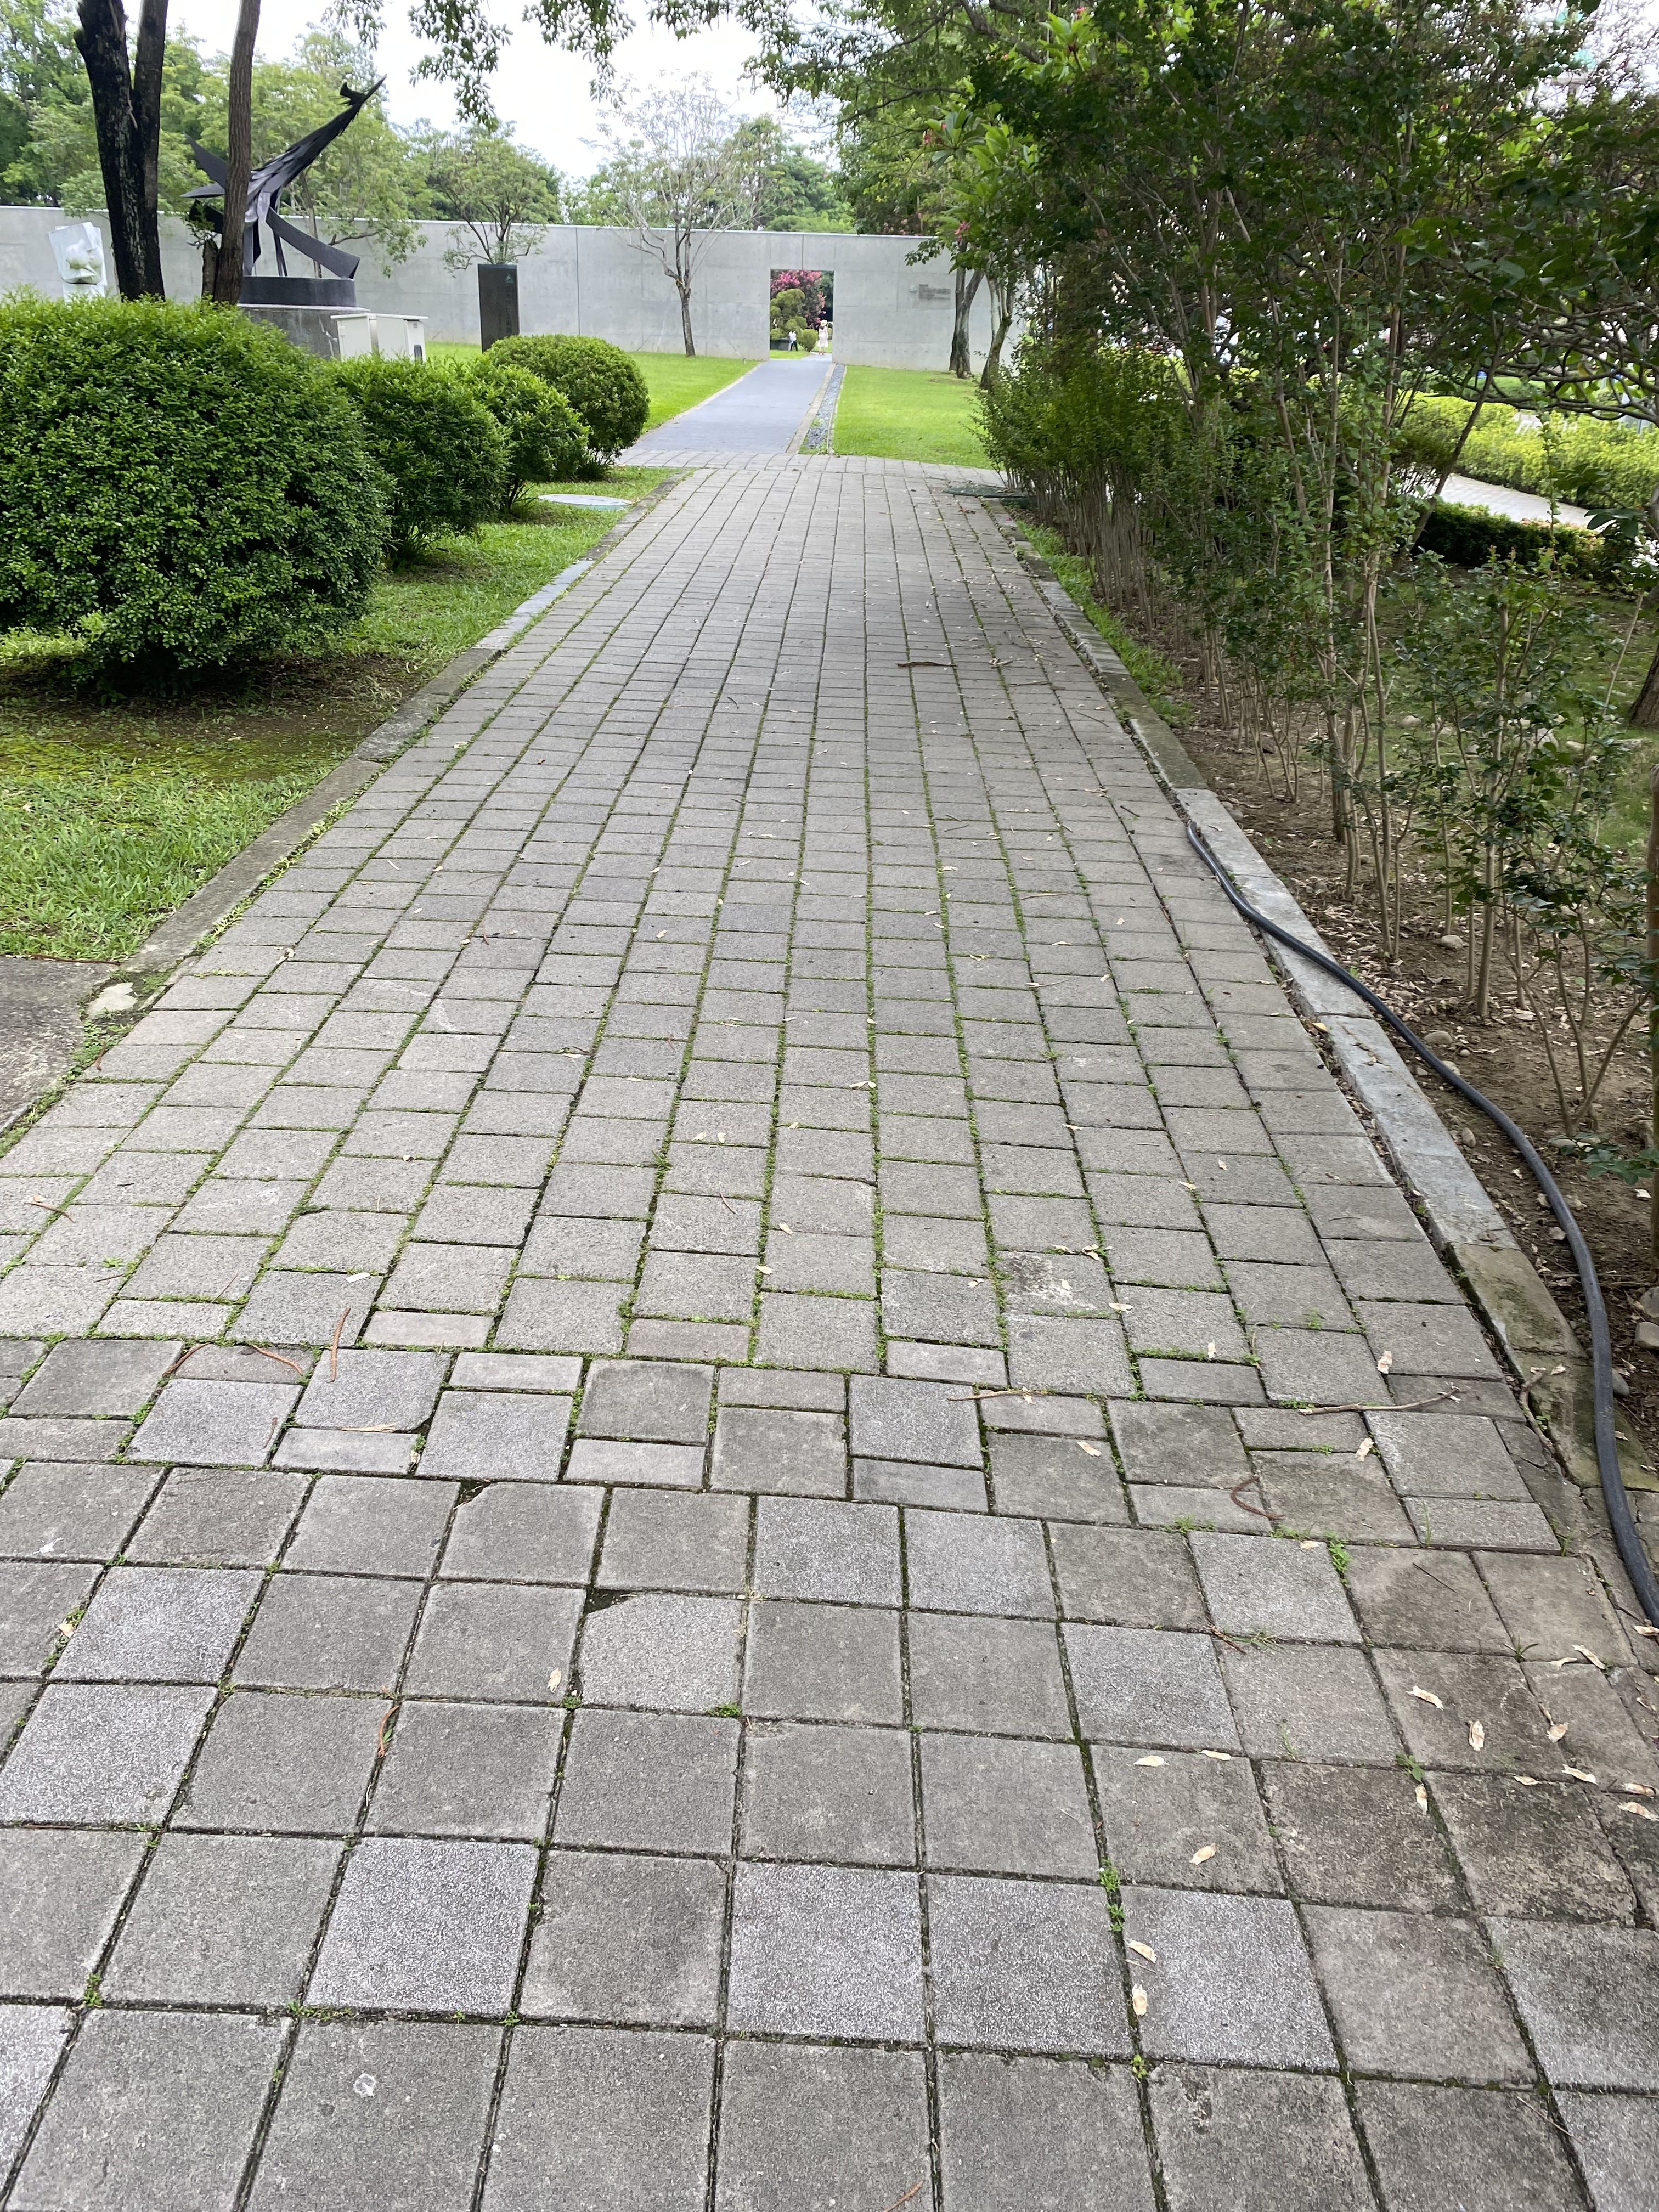0: (615, 307, 899, 512)
sidewalk: (0, 395, 1659, 2212)
